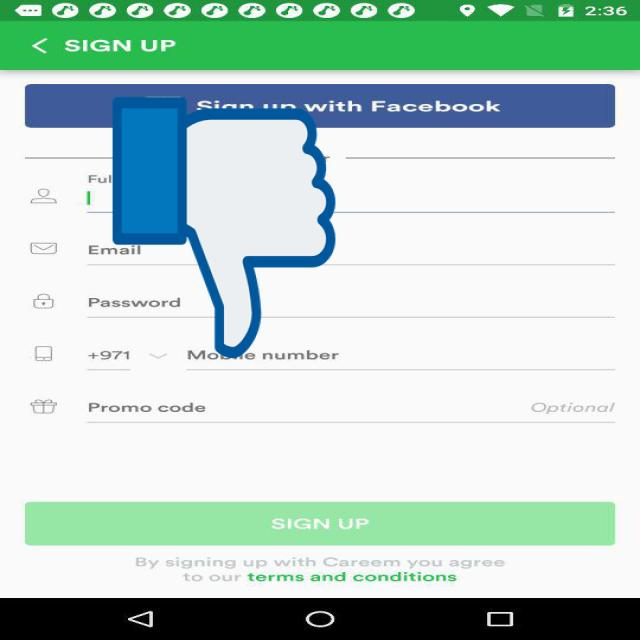obstruction: (112, 91, 336, 364)
